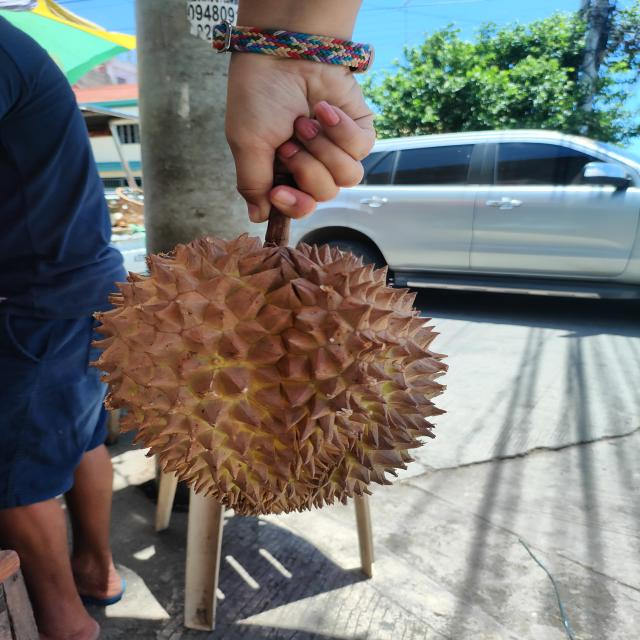mature: (94, 232, 448, 522)
